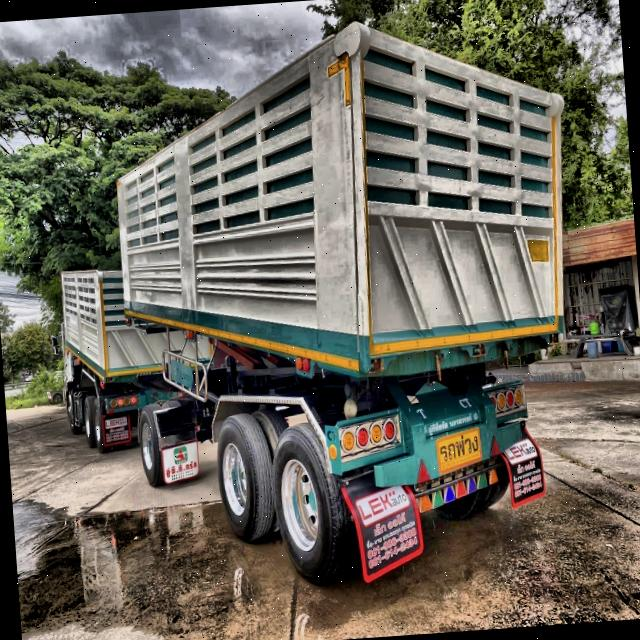trailer: (32, 4, 602, 605)
